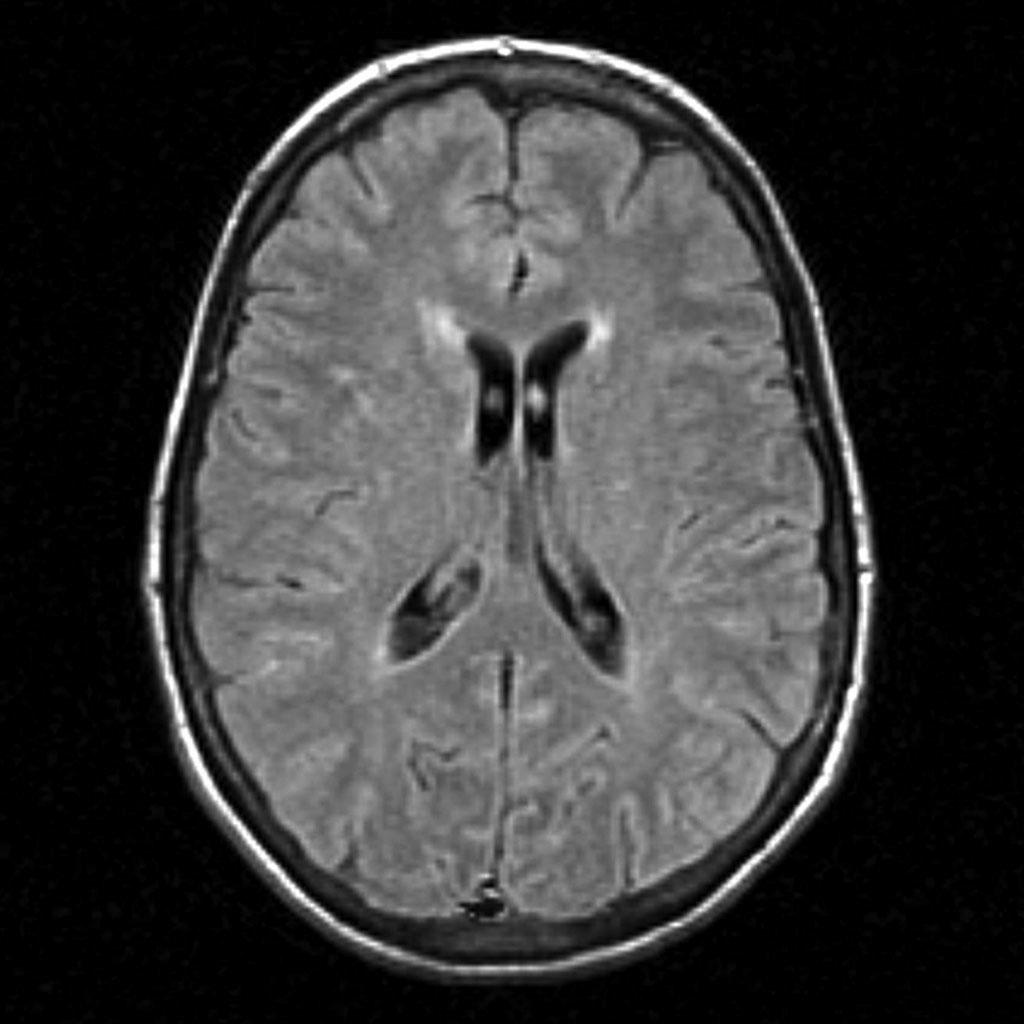Normal_Brain: (9, 7, 1024, 1024)
